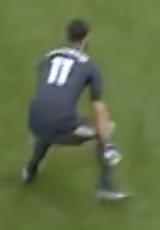goalkeeper: (10, 6, 145, 230)
